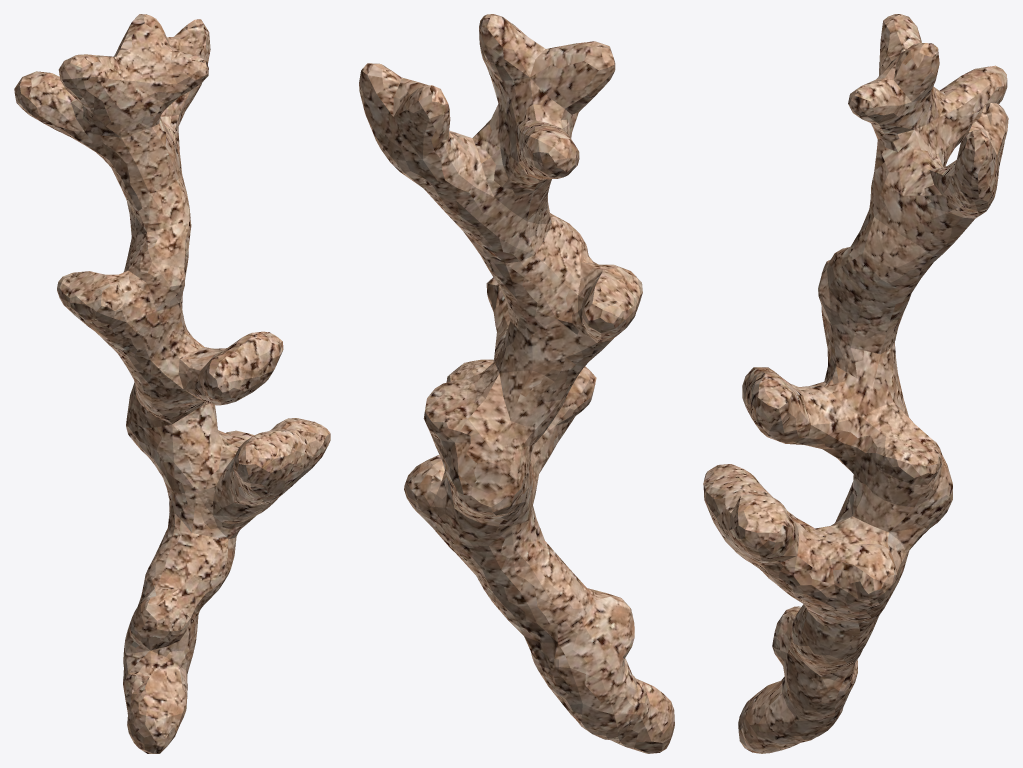
The model's file is coral tree 2 sand.glb.
The picture shows the model from 3 angles, left to right: view 1: azimuth 30°, elevation 25°; view 2: azimuth 150°, elevation 25°; view 3: azimuth 270°, elevation 25°; orthographic projection. The views are drawn at different scales.
Parts seen in each view (by area): view 1: coral_4_whole_watertight_small; view 2: coral_4_whole_watertight_small; view 3: coral_4_whole_watertight_small.
Boxes of the visible parts, x1=… form: coral_4_whole_watertight_small: x1=14, y1=14, x2=330, y2=753; coral_4_whole_watertight_small: x1=359, y1=14, x2=674, y2=753; coral_4_whole_watertight_small: x1=703, y1=14, x2=1008, y2=753.
Size of the model in its own units: 70.01 by 215 by 79.78.
Materials: 1 (1 with a texture image).
